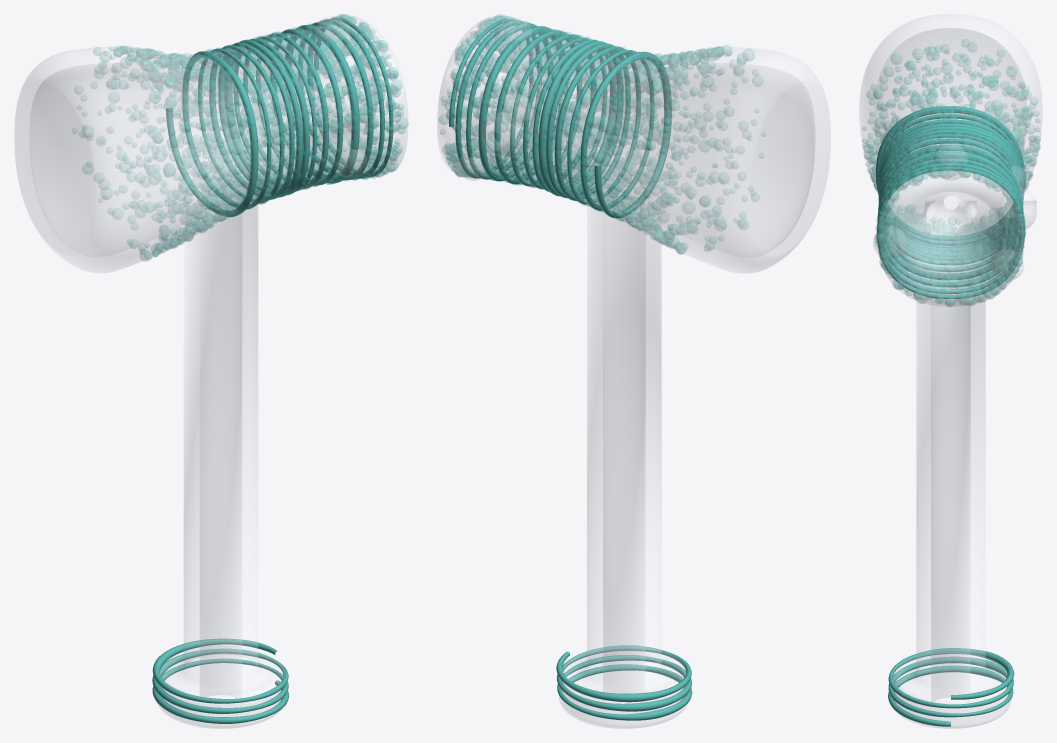
The model's file is hammer_clear_silver.glb.
3 views of the same model, side by side, from view 1: azimuth 30°, elevation 25°; view 2: azimuth 150°, elevation 25°; view 3: azimuth 270°, elevation 25° (orthographic). The views are drawn at different scales.
Visible parts, largest first — view 1: body, frit, lines, marbles; view 2: body, frit, lines, marbles; view 3: body, frit, lines, marbles.
Part boxes in pixels (x1,y1,x2,y2): body: (14, 16, 407, 728); frit: (81, 14, 408, 261); lines: (152, 17, 393, 723); marbles: (258, 16, 366, 177); body: (437, 16, 830, 728); frit: (439, 14, 758, 254); lines: (449, 18, 692, 720); marbles: (456, 17, 534, 180); body: (859, 14, 1042, 728); frit: (862, 39, 1040, 306); lines: (876, 106, 1026, 726); marbles: (873, 144, 1028, 279).
Size of the model in its own units: 0.0682 by 0.1398 by 0.0371.
